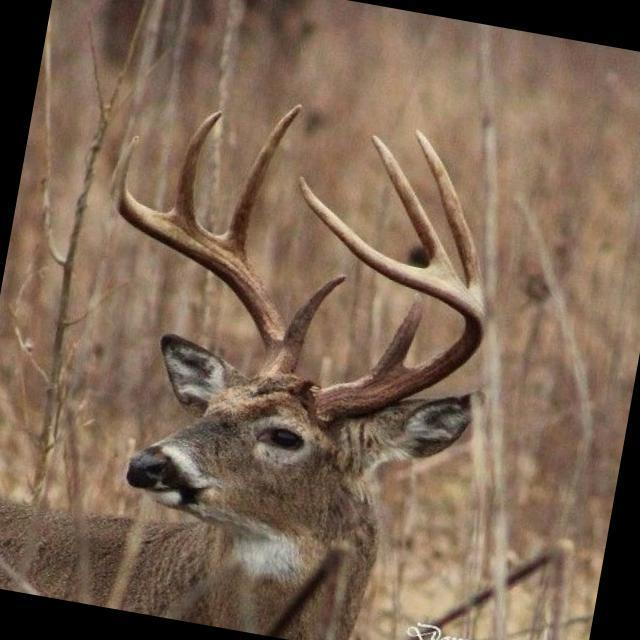L-F: (297, 174, 486, 421)
L-G1: (359, 294, 424, 379)
L-G2: (414, 129, 483, 307)
L-G3: (369, 134, 466, 289)
R-F: (108, 135, 300, 380)
R-G1: (286, 273, 346, 352)
R-G2: (214, 103, 303, 263)
R-G3: (162, 109, 224, 230)
